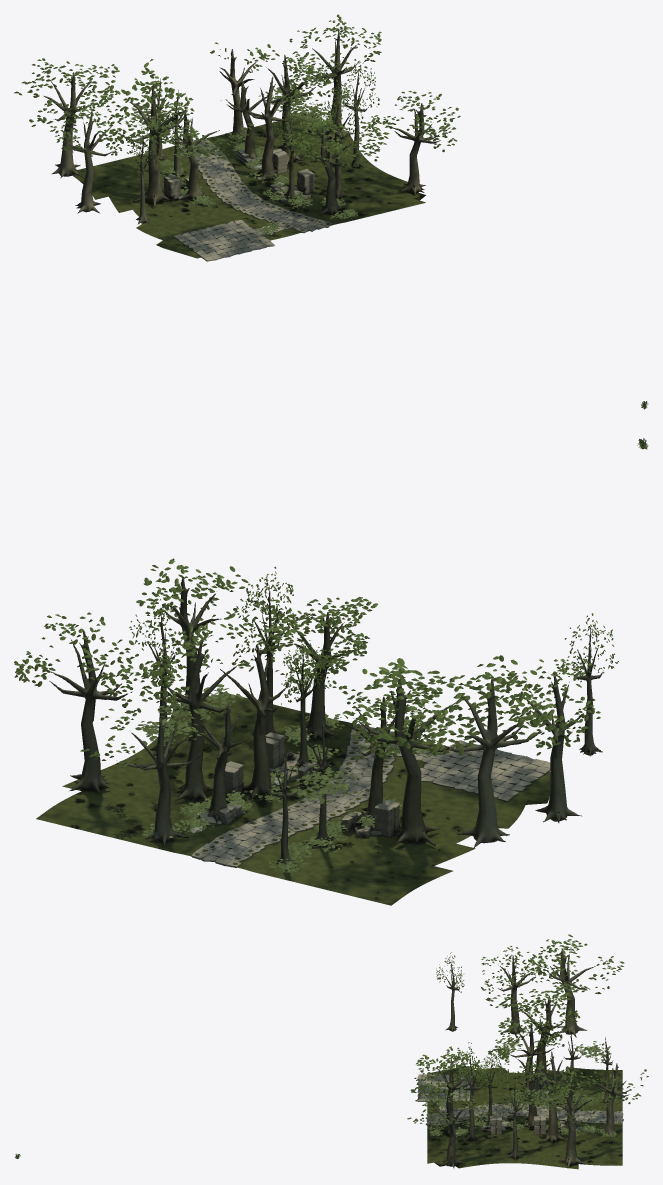
The model's file is canopy.glb.
3 renders of one model, top to bottom at view 1: azimuth 30°, elevation 25°; view 2: azimuth 150°, elevation 25°; view 3: azimuth 270°, elevation 25°, orthographic. The views are drawn at different scales.
Parts seen in each view (by area): view 1: ForestCanopy_Ground_Cell_-1_-4, ForestCanopy_Wood_Cell_-1_-4, ForestCanopy_Stone_Cell_-1_-4, ForestCanopy_Foliage_Cell_-1_-4, ForestCanopy_Foliage_Cell_-2_-4, ForestCanopy_Wood_Cell_-2_-4, ForestCanopy_Ground_Cell_-2_-4, PD11_Foliage_forest-canopy_Cell_-1_-4, ForestCanopy_Stone_Cell_-1_-3, ForestCanopy_Foliage_Cell_-1_-3, ForestCanopy_Ground_Cell_0_-4, ForestCanopy_Ground_Cell_-1_-3 (+7 smaller); view 2: ForestCanopy_Ground_Cell_-1_-4, ForestCanopy_Wood_Cell_-1_-4, ForestCanopy_Stone_Cell_-1_-4, ForestCanopy_Wood_Cell_-2_-4, ForestCanopy_Foliage_Cell_-1_-4, ForestCanopy_Foliage_Cell_-2_-4, ForestCanopy_Ground_Cell_-2_-4, PD11_Foliage_forest-canopy_Cell_-1_-4, ForestCanopy_Ground_Cell_0_-4, ForestCanopy_Foliage_Cell_0_-4, ForestCanopy_Wood_Cell_0_-4, ForestCanopy_Foliage_Cell_-1_-3 (+10 smaller); view 3: ForestCanopy_Ground_Cell_-1_-4, ForestCanopy_Wood_Cell_-1_-4, ForestCanopy_Foliage_Cell_-1_-4, ForestCanopy_Foliage_Cell_-2_-4, ForestCanopy_Stone_Cell_-1_-4, ForestCanopy_Ground_Cell_0_-4, PD11_Foliage_forest-canopy_Cell_-1_-4, ForestCanopy_Wood_Cell_-2_-4, ForestCanopy_Ground_Cell_-2_-4, ForestCanopy_Foliage_Cell_0_-4, ForestCanopy_Foliage_Cell_-1_-3, ForestCanopy_Wood_Cell_0_-4 (+7 smaller).
Part boxes in pixels (box(x1,y1,x2,y2)): ForestCanopy_Ground_Cell_-1_-4: box(108, 124, 364, 229); ForestCanopy_Wood_Cell_-1_-4: box(146, 49, 342, 200); ForestCanopy_Stone_Cell_-1_-4: box(164, 138, 314, 230); ForestCanopy_Foliage_Cell_-1_-4: box(138, 44, 350, 159); ForestCanopy_Foliage_Cell_-2_-4: box(14, 58, 180, 156); ForestCanopy_Wood_Cell_-2_-4: box(43, 72, 164, 213); ForestCanopy_Ground_Cell_-2_-4: box(72, 162, 199, 240); PD11_Foliage_forest-canopy_Cell_-1_-4: box(129, 86, 335, 207); ForestCanopy_Stone_Cell_-1_-3: box(203, 210, 332, 254); ForestCanopy_Foliage_Cell_-1_-3: box(281, 79, 386, 171); ForestCanopy_Ground_Cell_0_-4: box(272, 115, 405, 190); ForestCanopy_Ground_Cell_-1_-3: box(205, 191, 391, 247); ForestCanopy_Ground_Cell_-1_-4: box(95, 733, 465, 890); ForestCanopy_Wood_Cell_-1_-4: box(131, 599, 405, 865); ForestCanopy_Stone_Cell_-1_-4: box(191, 732, 467, 866); ForestCanopy_Wood_Cell_-2_-4: box(390, 671, 583, 847); ForestCanopy_Foliage_Cell_-1_-4: box(100, 571, 439, 765); ForestCanopy_Foliage_Cell_-2_-4: box(373, 655, 600, 756); ForestCanopy_Ground_Cell_-2_-4: box(332, 791, 525, 905); PD11_Foliage_forest-canopy_Cell_-1_-4: box(135, 684, 432, 874); ForestCanopy_Ground_Cell_0_-4: box(36, 718, 225, 833); ForestCanopy_Foliage_Cell_0_-4: box(14, 594, 217, 717); ForestCanopy_Wood_Cell_0_-4: box(49, 612, 175, 793); ForestCanopy_Foliage_Cell_-1_-3: box(234, 566, 378, 674); ForestCanopy_Ground_Cell_-1_-4: box(471, 1082, 622, 1152); ForestCanopy_Wood_Cell_-1_-4: box(469, 996, 623, 1143); ForestCanopy_Foliage_Cell_-1_-4: box(470, 985, 621, 1097); ForestCanopy_Foliage_Cell_-2_-4: box(481, 934, 622, 1036); ForestCanopy_Stone_Cell_-1_-4: box(470, 1074, 622, 1134); ForestCanopy_Ground_Cell_0_-4: box(471, 1146, 622, 1169); PD11_Foliage_forest-canopy_Cell_-1_-4: box(474, 1037, 619, 1137); ForestCanopy_Wood_Cell_-2_-4: box(498, 948, 595, 1083); ForestCanopy_Ground_Cell_-2_-4: box(473, 1067, 622, 1088); ForestCanopy_Foliage_Cell_0_-4: box(470, 1069, 616, 1125); ForestCanopy_Foliage_Cell_-1_-3: box(410, 1042, 471, 1097); ForestCanopy_Wood_Cell_0_-4: box(507, 1078, 593, 1168).
Size of the model in its own units: 54.87 by 22.32 by 101.
Materials: 4 (3 with a texture image).
